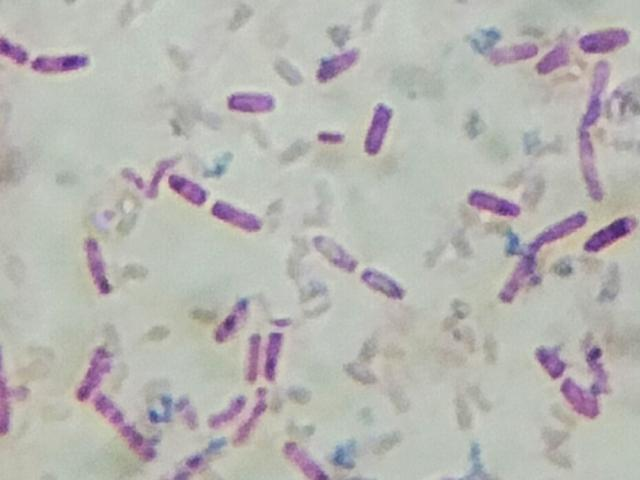E. coli: (88, 392, 152, 461), (79, 230, 116, 302), (589, 212, 638, 258), (223, 86, 280, 122), (33, 45, 95, 78), (533, 205, 586, 243), (579, 21, 639, 54), (278, 437, 323, 480), (363, 99, 395, 159), (499, 247, 533, 303), (579, 132, 607, 200), (361, 262, 406, 304), (305, 227, 351, 267), (213, 196, 262, 232), (213, 290, 249, 339), (583, 62, 610, 127), (528, 337, 570, 377), (561, 376, 600, 418), (471, 186, 520, 217), (236, 387, 265, 439), (169, 170, 208, 207), (73, 340, 99, 393), (539, 43, 574, 81), (319, 52, 357, 85), (239, 329, 263, 379), (268, 326, 289, 381), (588, 336, 608, 387), (489, 44, 540, 64), (213, 390, 240, 424), (0, 29, 23, 66), (315, 126, 345, 147)
